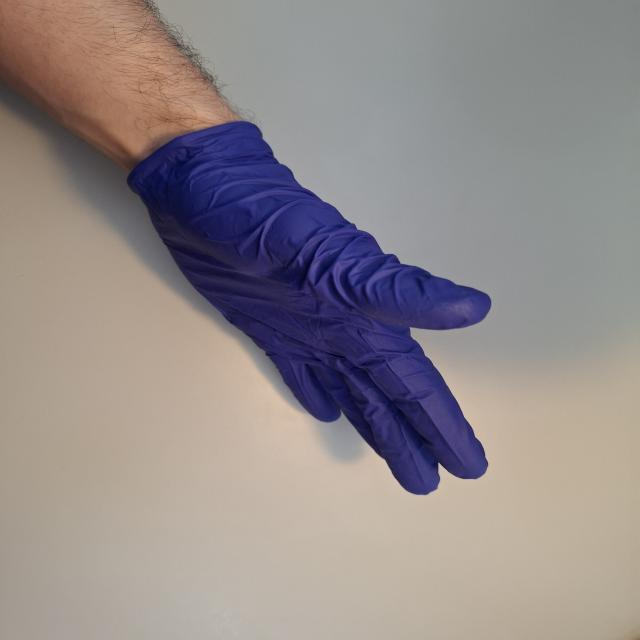glove_on: (125, 116, 495, 498)
